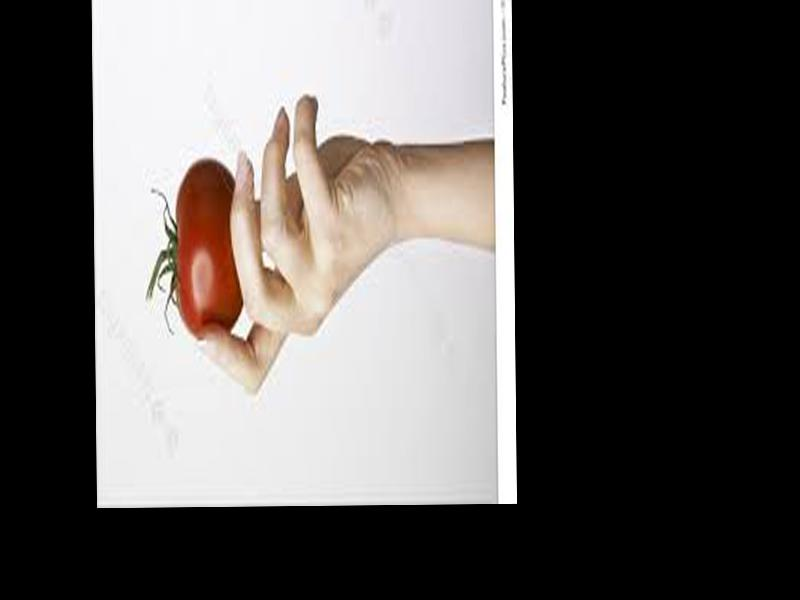Tomato: (146, 161, 242, 337)
